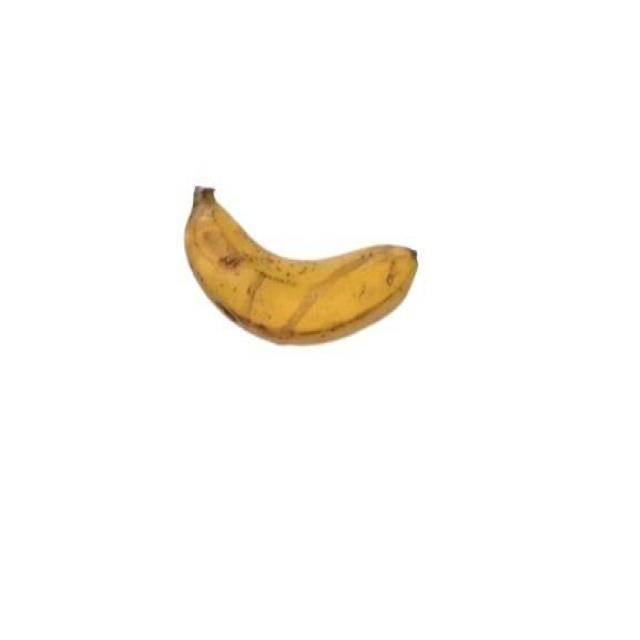Banana: (174, 178, 422, 356)
